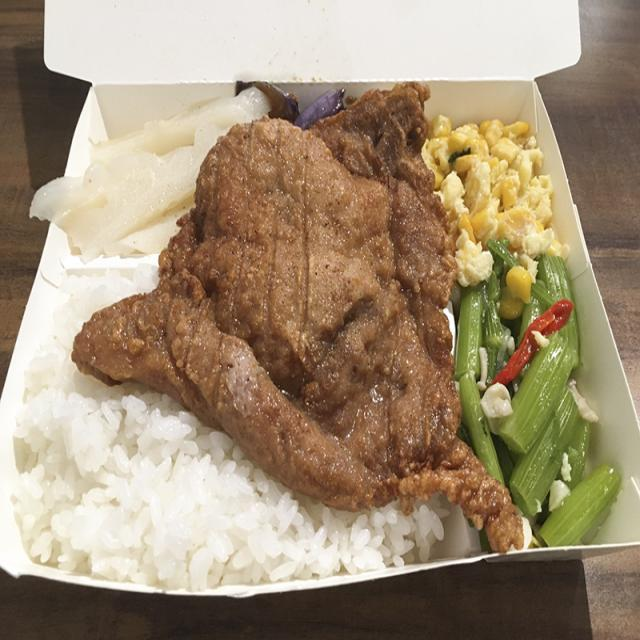Scrambled eggs with carrots: (463, 114, 555, 251)
meat: (199, 144, 446, 482)
rice: (26, 416, 176, 545), (190, 497, 305, 572)
